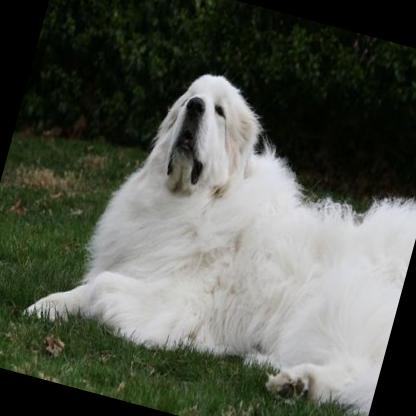Great_Pyrenees: (14, 34, 416, 416)
